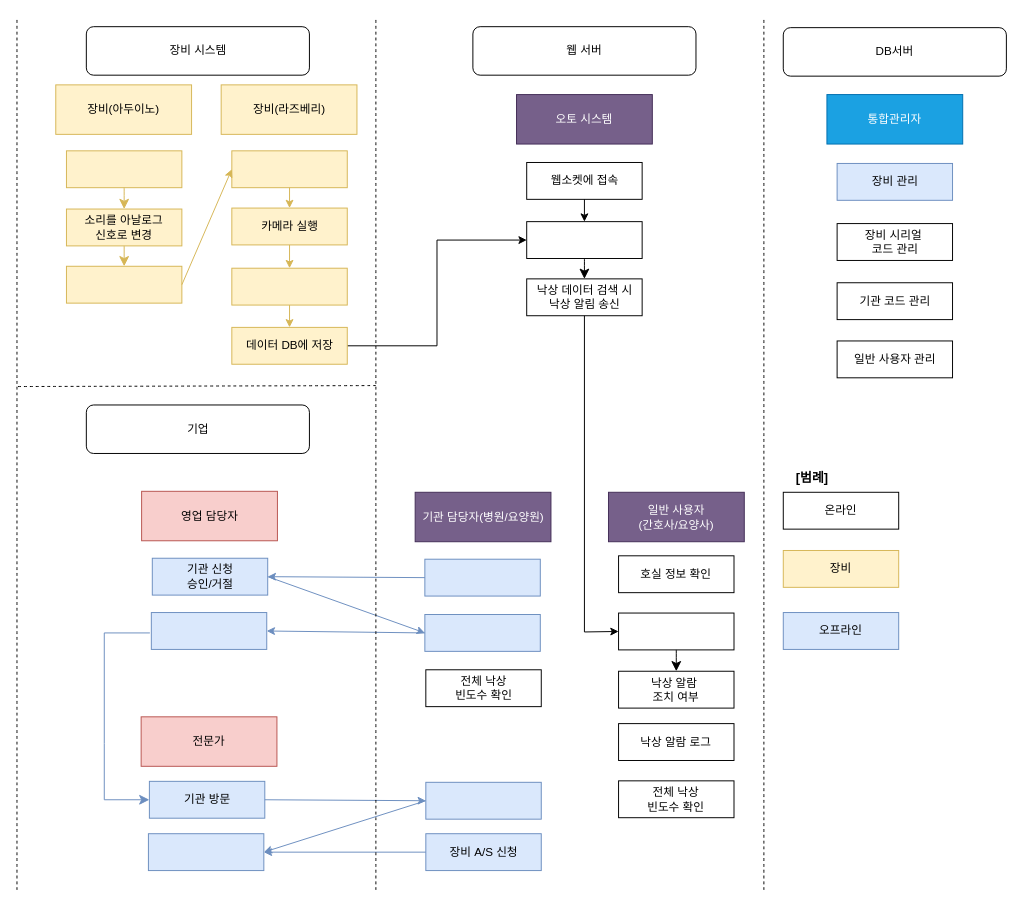
This 1023x908 diagram has some shape labels left out. The shapes that lost their labels are listed below. From the top down, each one's box as (x1, y1, x2, y2) in pixels, then its label:
(65, 150, 182, 188): 소리 센서로 소리 강도 감지
(231, 150, 347, 188): 데이터 수신
(526, 221, 642, 259): DB 데이터 검색
(65, 265, 182, 303): 시리얼 통신으로 데이터 전송
(231, 267, 347, 305): 사람 감지(opencv) 를 통한 낙상 감지
(424, 558, 540, 596): 기관 신청(유선)
(150, 612, 267, 649): 기관 방문 예약
(424, 614, 540, 651): 기관 신청 승인 여부
(618, 612, 734, 650): 낙상 알람 확인
(425, 781, 541, 819): 장비 설치 회의
(147, 833, 264, 871): 장비 설치 및 수거
